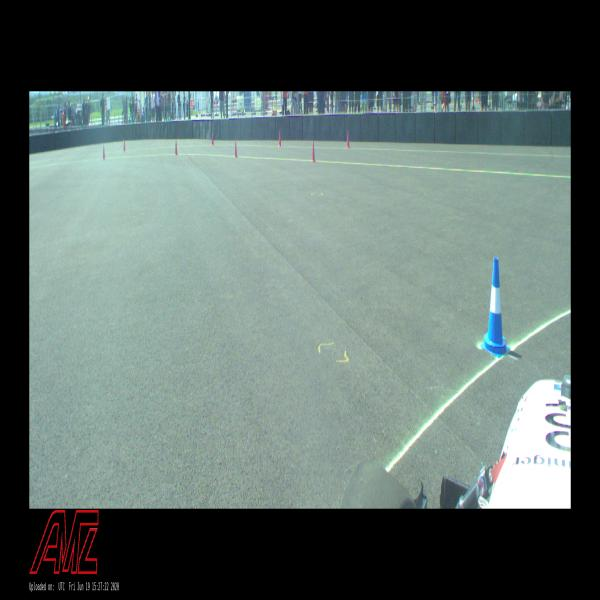blue_cone: (480, 258, 510, 358)
